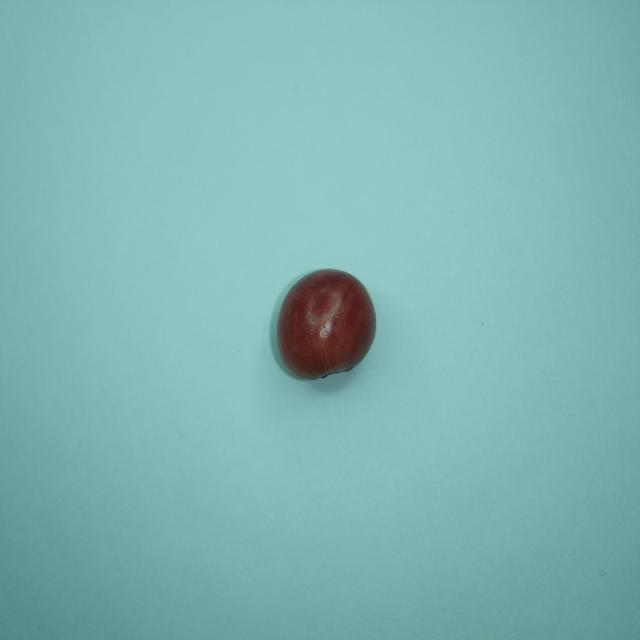Sano: (273, 269, 375, 379)
